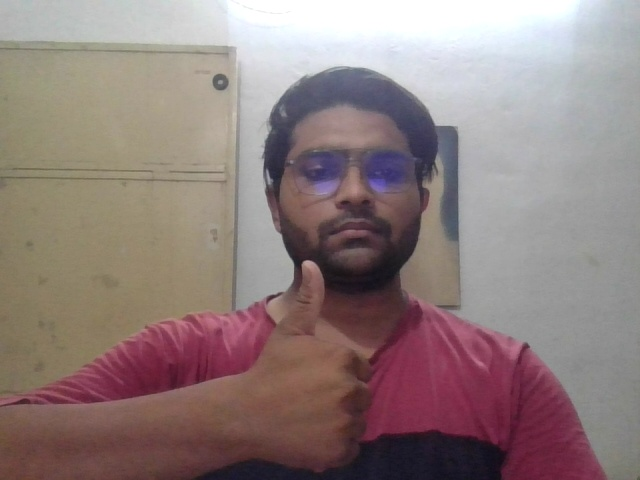ThumbsUp: (259, 254, 380, 475)
